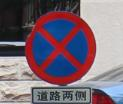No Parking: (26, 14, 97, 86)
